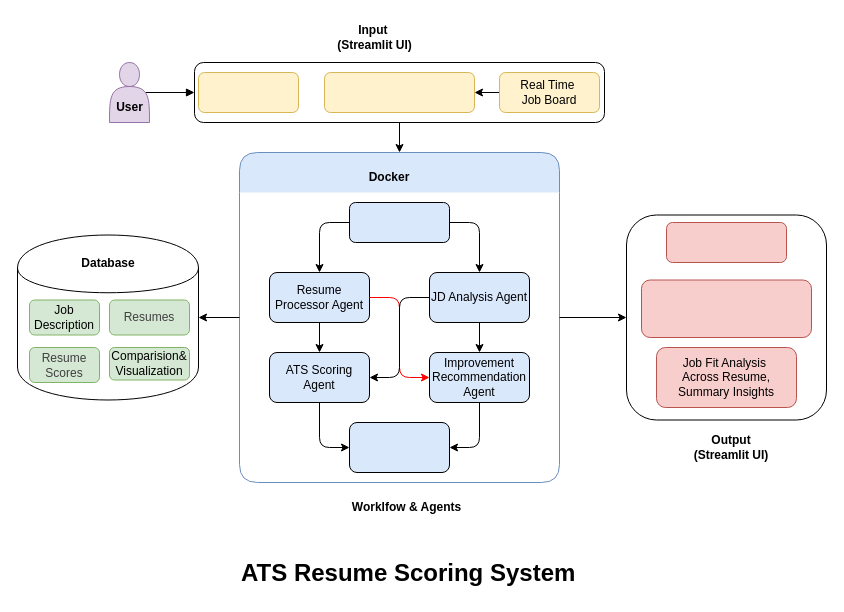
Image size: 844x612. Some labels were removed from this diagram. The box of each missing label's shape, as (x1, y1, x2, y2) in pixels:
JD File (upload or from job search): (324, 72, 474, 112)
JD Summary: (666, 222, 786, 262)
Resume files (upload): (198, 72, 298, 112)
Resume Scoring & Feedback, Relevant Jobs Suggestion, Resume Rewriting Suggestion: (640, 279, 812, 338)
Retriever (RAG): (348, 202, 450, 242)
Visualization Agent: (348, 422, 450, 472)
